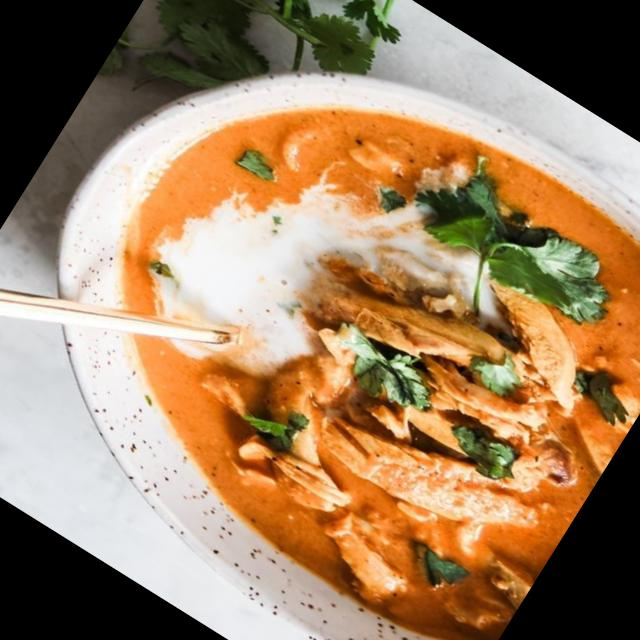chicken: (118, 76, 640, 627)
